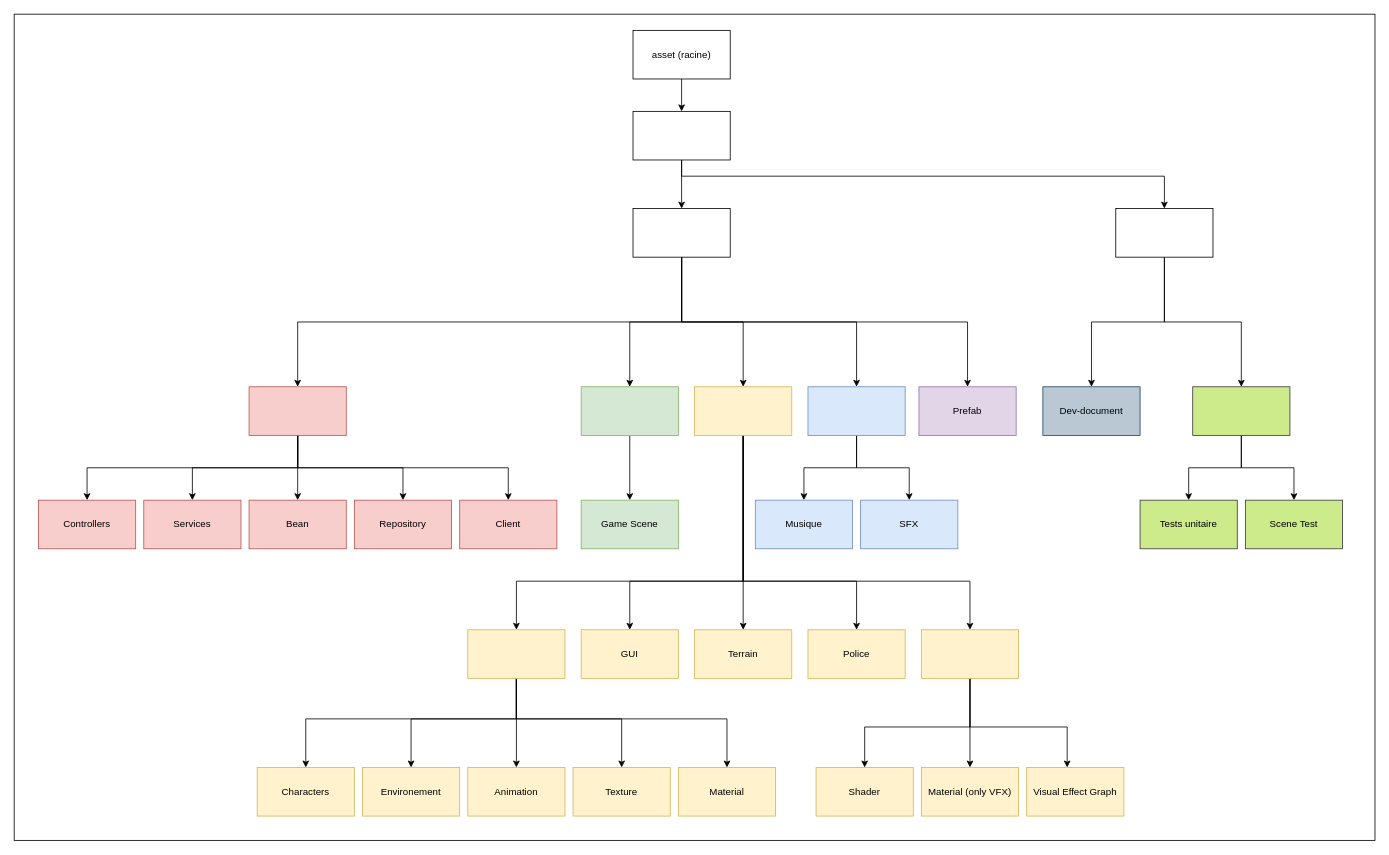
The diagram is 1389 pixels wide and 855 high, and some of its shapes have lost their labels. The shapes that lost their labels are listed below. From the top down, each one's centre as x and y in pixels, then its label:
At point (681, 135): "App".
At point (681, 232): "Content".
At point (1164, 232): "No Compile".
At point (297, 410): "Scripts".
At point (629, 410): "Scene".
At point (743, 410): "Visual".
At point (856, 410): "Audio".
At point (1241, 410): "Tests".
At point (516, 653): "Model 3d".
At point (970, 653): "VFX".
